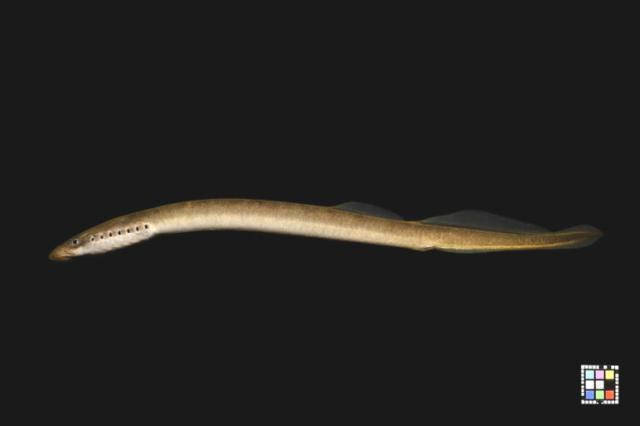Sirip Ekor: (504, 201, 612, 271)
